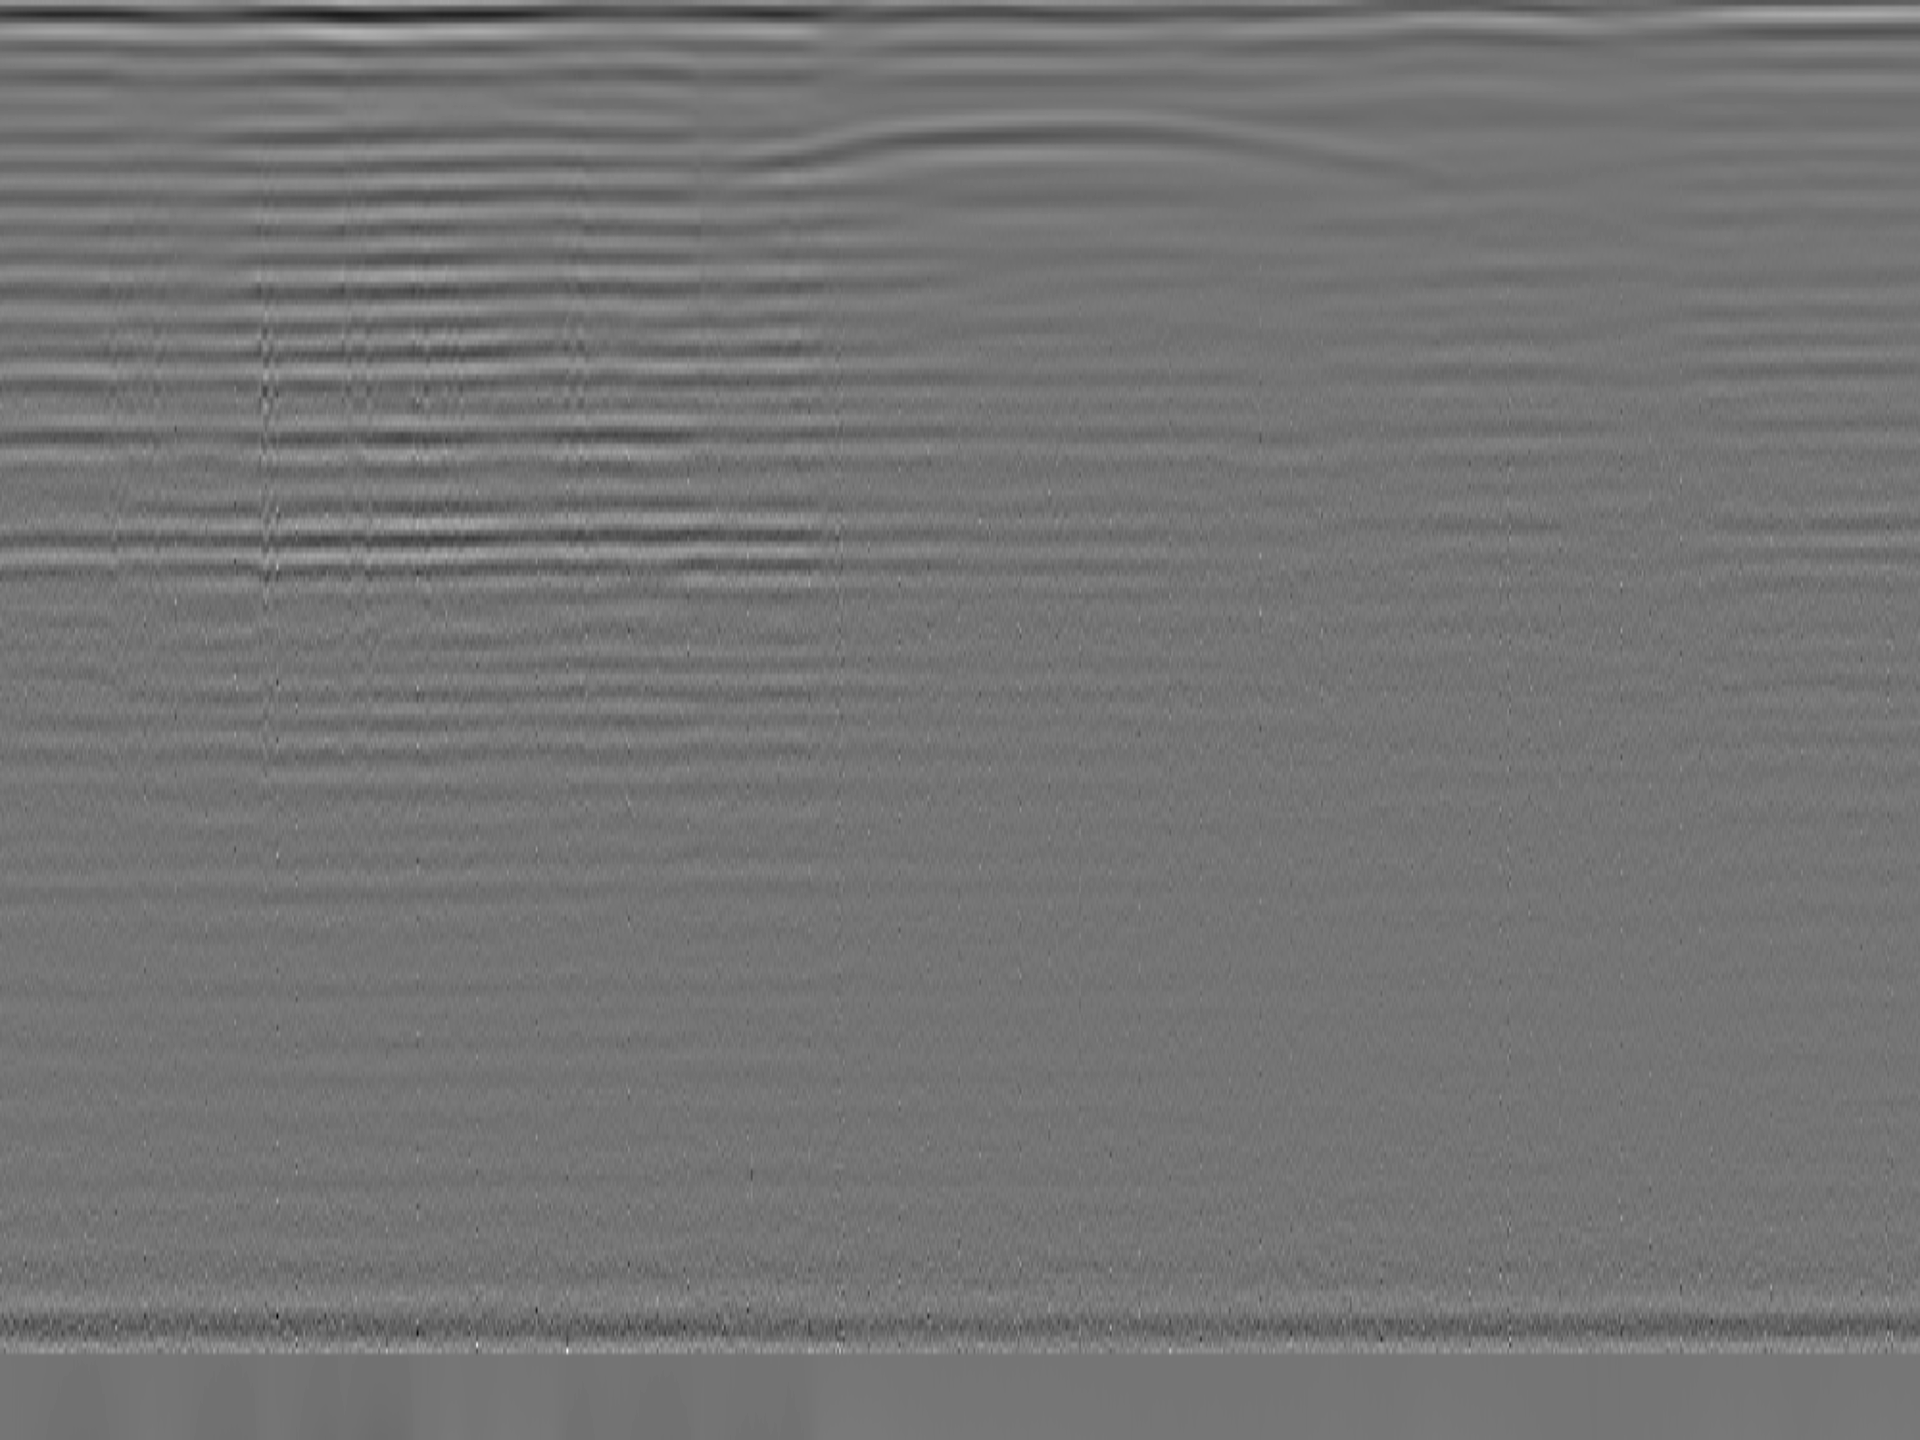Tunnel: (721, 109, 1445, 191)
